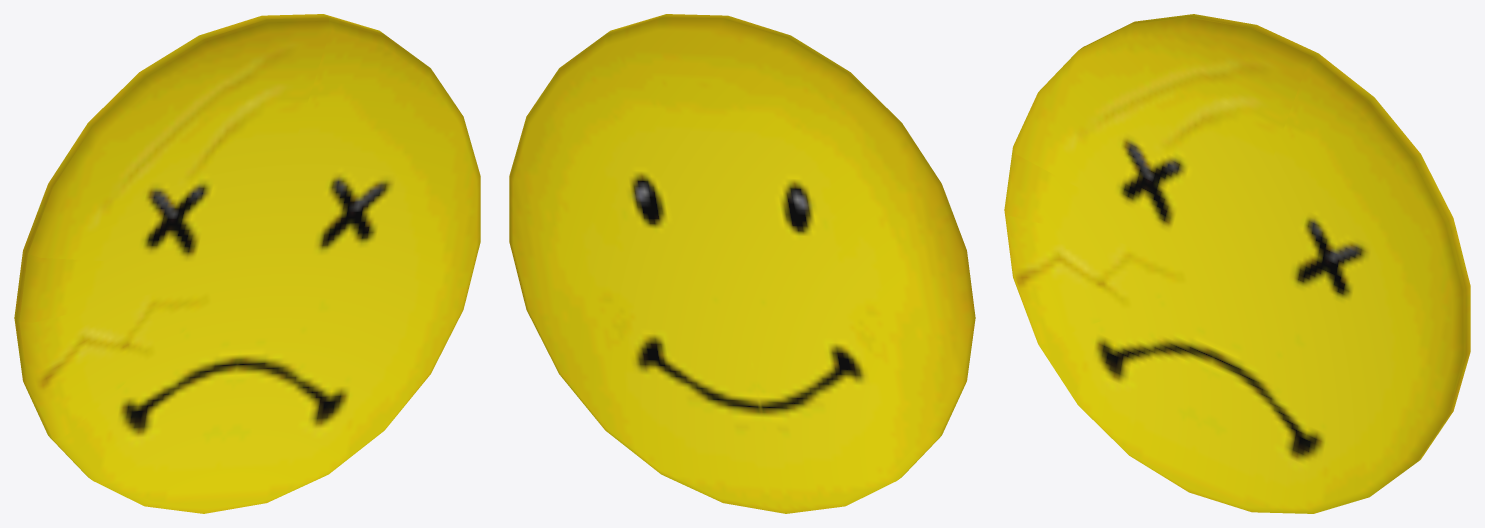
The model's file is ps2_save-icons_manhunt.glb.
3 views of the same model, side by side, from view 1: azimuth 30°, elevation 25°; view 2: azimuth 150°, elevation 25°; view 3: azimuth 330°, elevation 25° (orthographic).
Parts seen in each view (by area): view 1: PS2VIEW.ICO; view 2: PS2VIEW.ICO; view 3: PS2VIEW.ICO.
Part boxes in pixels (box(x1,y1,x2,y2)): PS2VIEW.ICO: box(14, 14, 480, 513); PS2VIEW.ICO: box(509, 14, 975, 513); PS2VIEW.ICO: box(1004, 14, 1470, 513).
Bounding box in the file's own units: 4.99 × 5 × 0.2681.
Materials: 1 (1 with a texture image).
